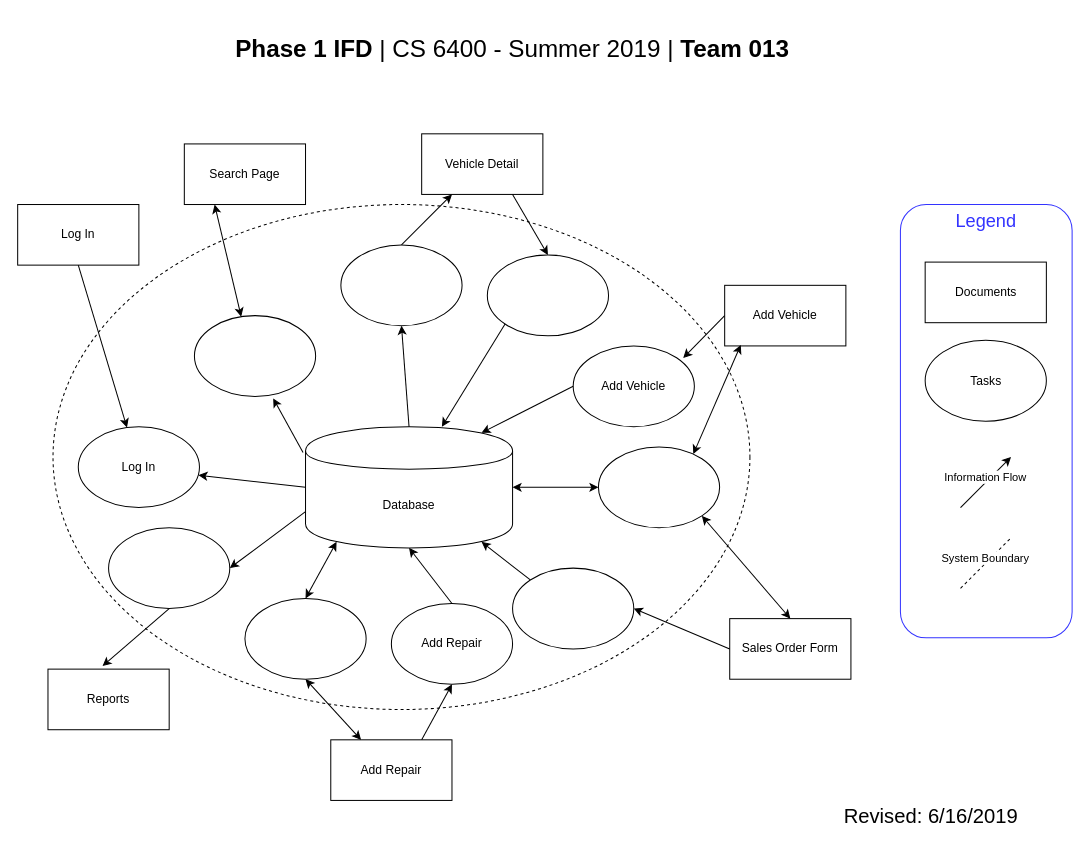
Image size: 1090x847. Some labels were removed from this diagram. The shapes that lost their labels are listed below. From the top down, each one's centre as x and y in pixels, then its label:
point 401,285: View Vehicle Detail
point 547,295: Update Repair
point 254,355: Search
point 658,487: Search/ Add Customer
point 169,568: View Reports
point 573,608: Sell Vehicle
point 305,638: Search/ Add Vendor
